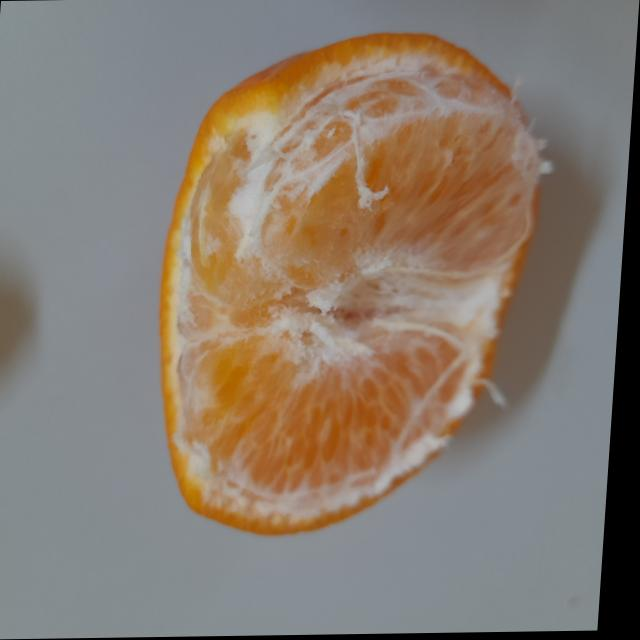Cam: (147, 9, 569, 574)
